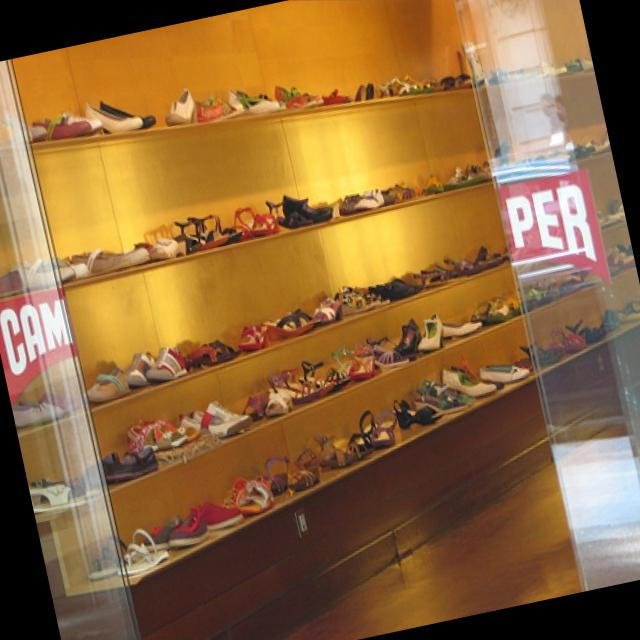floor -X: (262, 452, 580, 640)
glass doors: (452, 0, 640, 588), (0, 59, 142, 640)
shoe: (105, 444, 160, 478), (167, 500, 206, 544), (279, 193, 332, 220), (439, 369, 494, 393), (415, 309, 442, 351), (167, 86, 197, 123), (287, 448, 315, 487)
shoes occluded: (243, 358, 346, 418), (337, 166, 442, 212), (83, 97, 153, 132), (364, 271, 426, 299)
sneaker: (190, 396, 245, 436), (143, 341, 185, 380)
